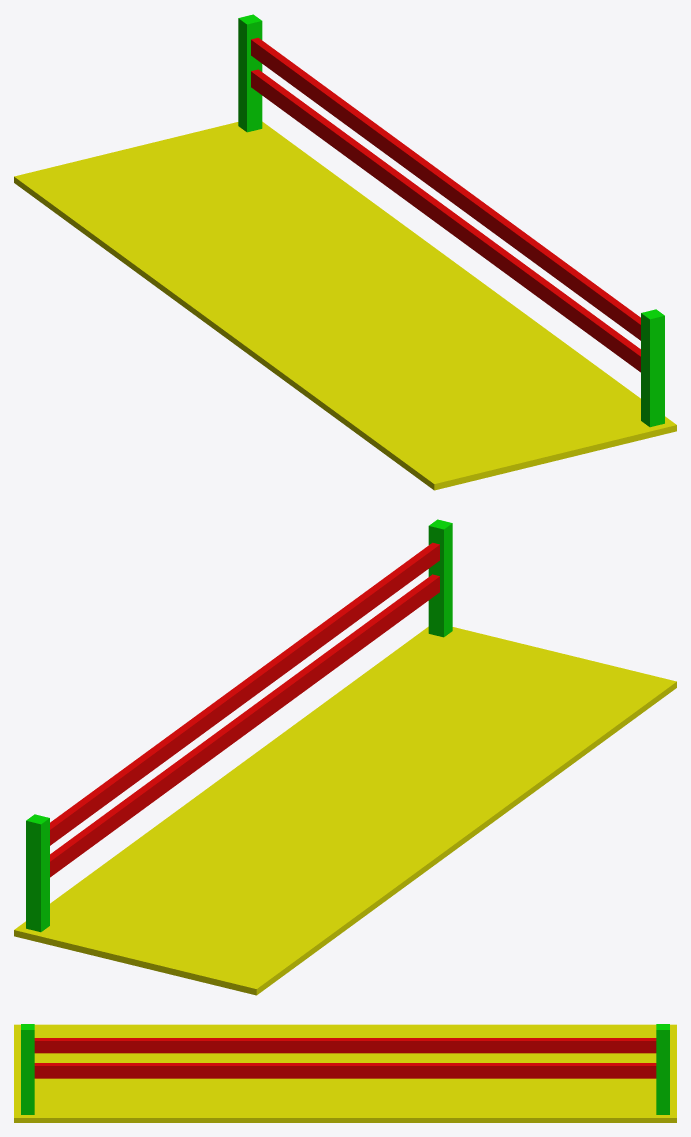
The model's file is WalkwayF_SM.fbx.
The picture shows the model from 3 angles, top to bottom: view 1: azimuth 30°, elevation 25°; view 2: azimuth 150°, elevation 25°; view 3: azimuth 270°, elevation 25°; orthographic projection. The views are drawn at different scales.
Parts seen in each view (by area): view 1: polySurface10; view 2: polySurface10; view 3: polySurface10.
Boxes of the visible parts, x1,y1,x2,y2 form: polySurface10: (14, 14, 676, 490); polySurface10: (14, 519, 676, 995); polySurface10: (14, 1024, 676, 1122).
Bounding box in the file's own units: 8 × 3.6 × 24.
